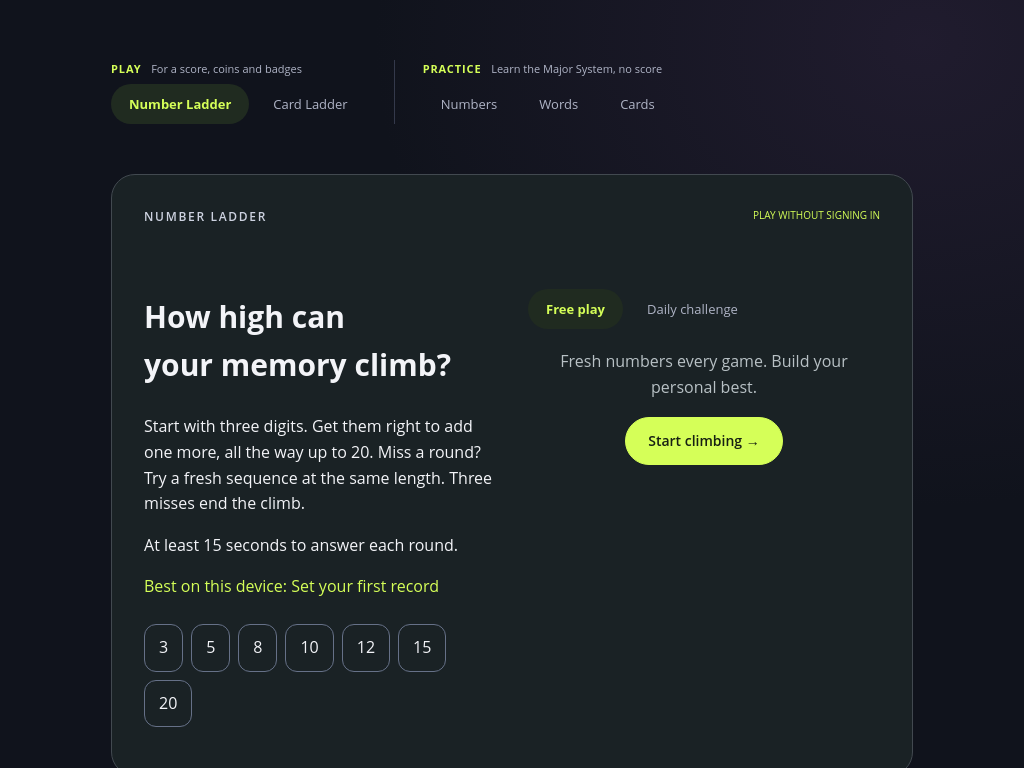
a signed-out player keeps favorites on the device
Later steps or results of the test are not shown.
Step 1. Click the button "Numbers" → (469, 104), box [423,84,515,124]
(page scrolled)
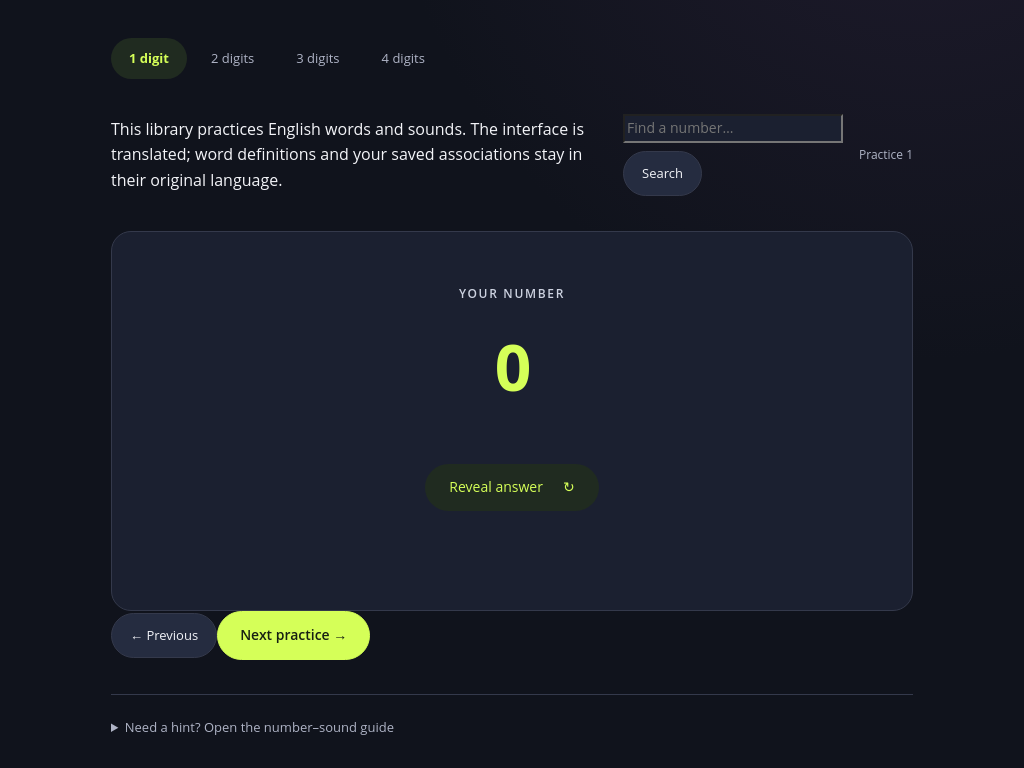
expect the heading "0" is shown: met, box [495,323,529,410]
